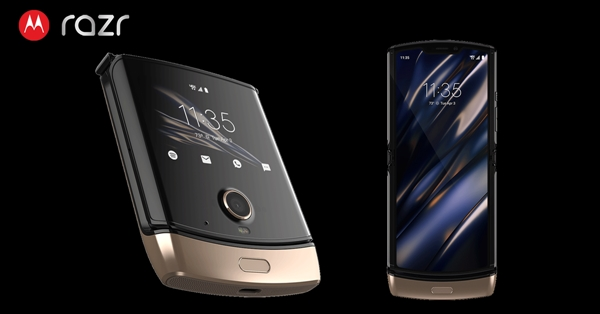Phone: (92, 52, 322, 298), (383, 41, 501, 300)
